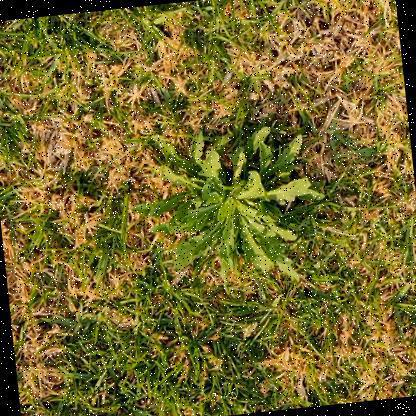Weeds: (126, 118, 331, 299)
